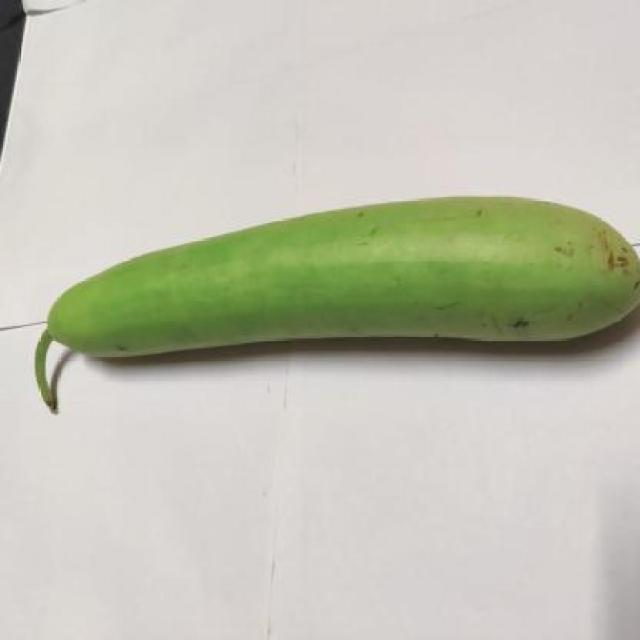Calabash: (31, 198, 638, 392)
